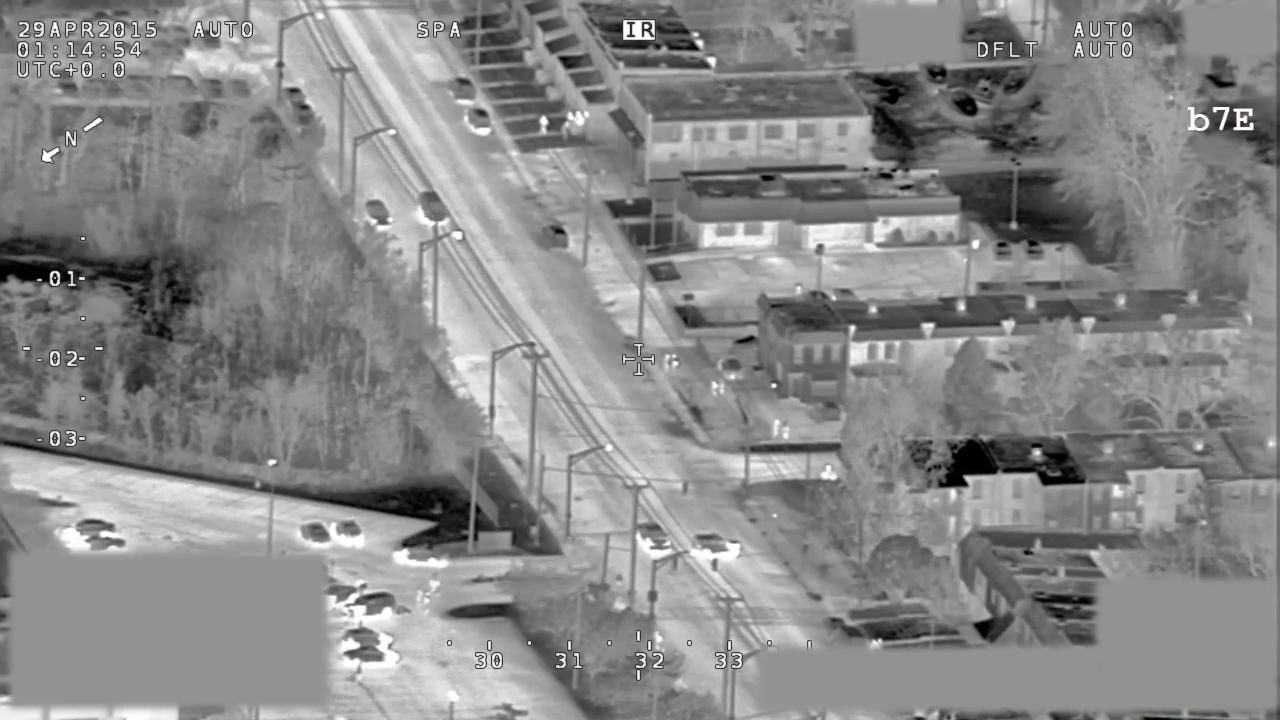vehicle: (686, 530, 745, 563), (340, 641, 407, 668), (632, 519, 677, 559), (341, 591, 403, 619), (414, 190, 448, 228), (338, 624, 396, 645), (295, 518, 333, 547), (446, 75, 479, 108), (462, 103, 494, 136), (538, 222, 571, 253), (364, 196, 394, 230), (61, 519, 117, 537), (331, 514, 364, 541), (75, 536, 127, 553), (291, 103, 321, 131), (282, 83, 305, 102)
